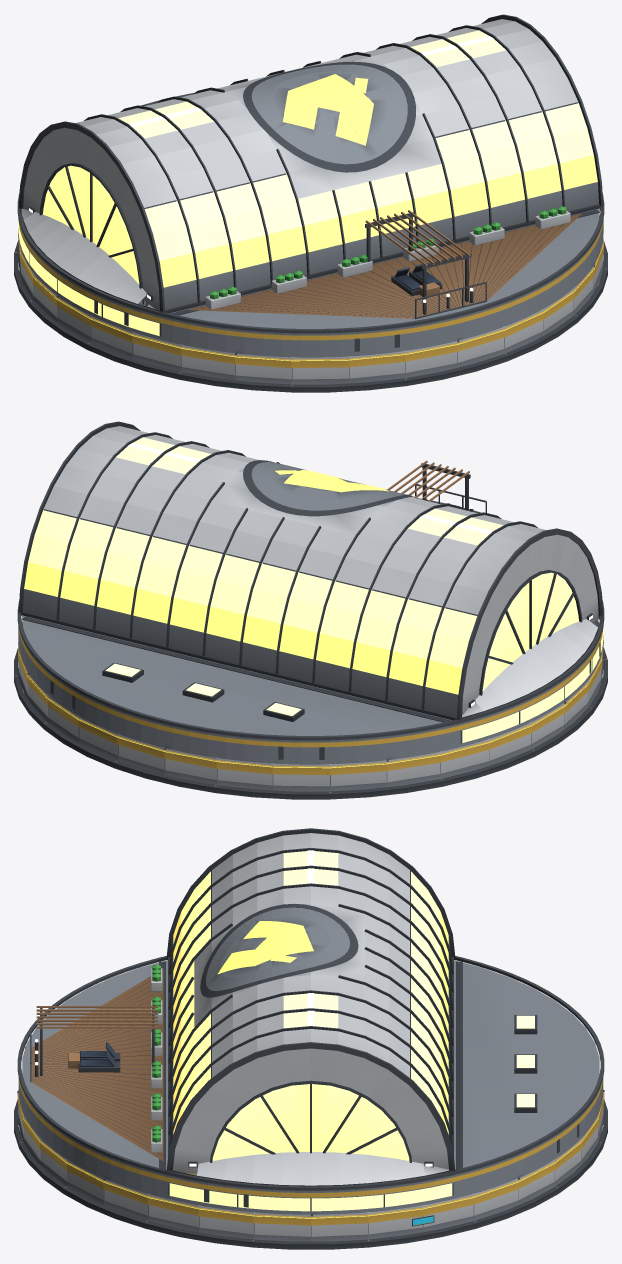
File: residence_tube_executive_xl.glb
3 views of the same model, one above another, from view 1: azimuth 30°, elevation 25°; view 2: azimuth 150°, elevation 25°; view 3: azimuth 270°, elevation 25° (orthographic).
Visible parts, largest first — view 1: Roof, PorchTop, Base, Wall_21, Wall_20, Wall_22, Wall_19, Wall_23, Upper_21, Upper_20, Wall_18, Upper_19 (+16 smaller); view 2: Roof, Base, PorchTop, Wall_10, Wall_11, Wall_09, Wall_12, Wall_08, Upper_11, Upper_09, Wall_13, Upper_12 (+16 smaller); view 3: Roof, PorchTop, Base, Wall_00, Wall_31, Wall_30, Wall_01, Upper_00, Upper_31, Wall_29, Upper_01, Wall_02 (+15 smaller).
Boxes of the visible parts, left/top/right/bottom form: Roof: left=17, top=14, right=604, bottom=333; PorchTop: left=29, top=36, right=581, bottom=319; Base: left=14, top=240, right=607, bottom=392; Wall_21: left=291, top=356, right=349, bottom=384; Wall_20: left=235, top=353, right=291, bottom=384; Wall_22: left=349, top=350, right=405, bottom=383; Wall_19: left=181, top=344, right=235, bottom=380; Wall_23: left=405, top=340, right=457, bottom=377; Upper_21: left=292, top=332, right=348, bottom=357; Upper_20: left=235, top=329, right=291, bottom=357; Wall_18: left=132, top=331, right=181, bottom=371; Upper_19: left=181, top=321, right=235, bottom=352; Roof: left=17, top=421, right=604, bottom=740; Base: left=14, top=647, right=607, bottom=799; PorchTop: left=128, top=443, right=592, bottom=706; Wall_10: left=272, top=763, right=330, bottom=791; Wall_11: left=330, top=760, right=386, bottom=791; Wall_09: left=216, top=757, right=272, bottom=790; Wall_12: left=386, top=751, right=440, bottom=787; Wall_08: left=164, top=747, right=216, bottom=784; Upper_11: left=330, top=736, right=386, bottom=764; Upper_09: left=217, top=734, right=272, bottom=763; Wall_13: left=440, top=738, right=489, bottom=778; Upper_12: left=386, top=728, right=440, bottom=759; Roof: left=17, top=828, right=604, bottom=1190; PorchTop: left=30, top=850, right=432, bottom=1166; Base: left=14, top=1100, right=607, bottom=1249; Wall_00: left=311, top=1212, right=368, bottom=1241; Wall_31: left=253, top=1212, right=310, bottom=1241; Wall_30: left=198, top=1205, right=253, bottom=1239; Wall_01: left=368, top=1205, right=423, bottom=1239; Upper_00: left=311, top=1188, right=367, bottom=1214; Upper_31: left=254, top=1188, right=310, bottom=1214; Wall_29: left=148, top=1193, right=198, bottom=1232; Upper_01: left=368, top=1181, right=422, bottom=1211; Wall_02: left=423, top=1193, right=473, bottom=1232.
Size of the model in its own units: 25.74 by 9.02 by 25.74.
